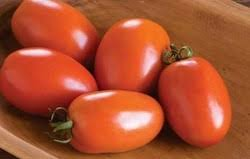tomato: (159, 58, 235, 147), (63, 87, 163, 153), (94, 16, 170, 88), (2, 47, 94, 101), (9, 0, 98, 50)
